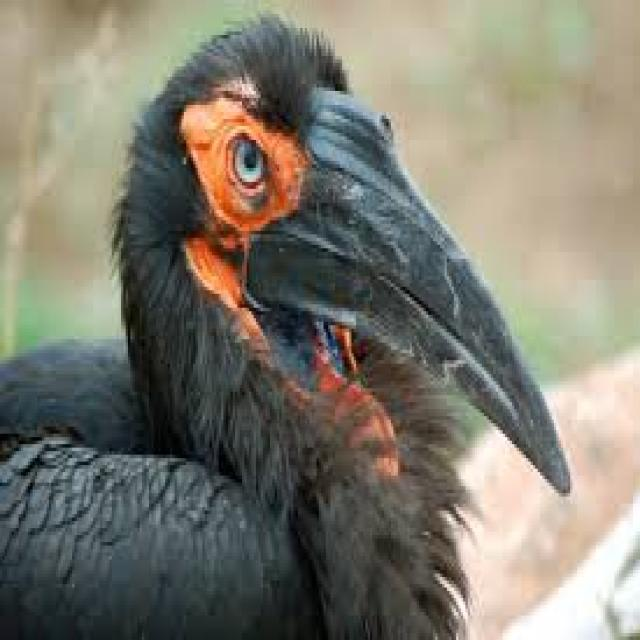Hornbill: (0, 31, 571, 640)
